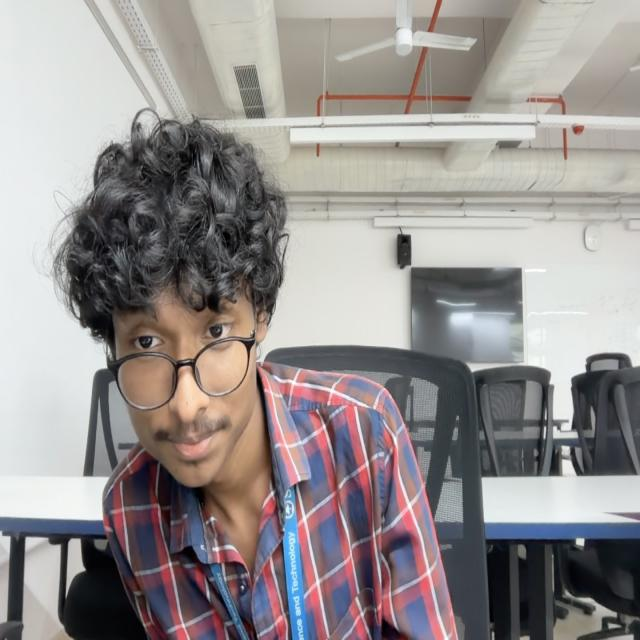darshan: (56, 118, 290, 481)
